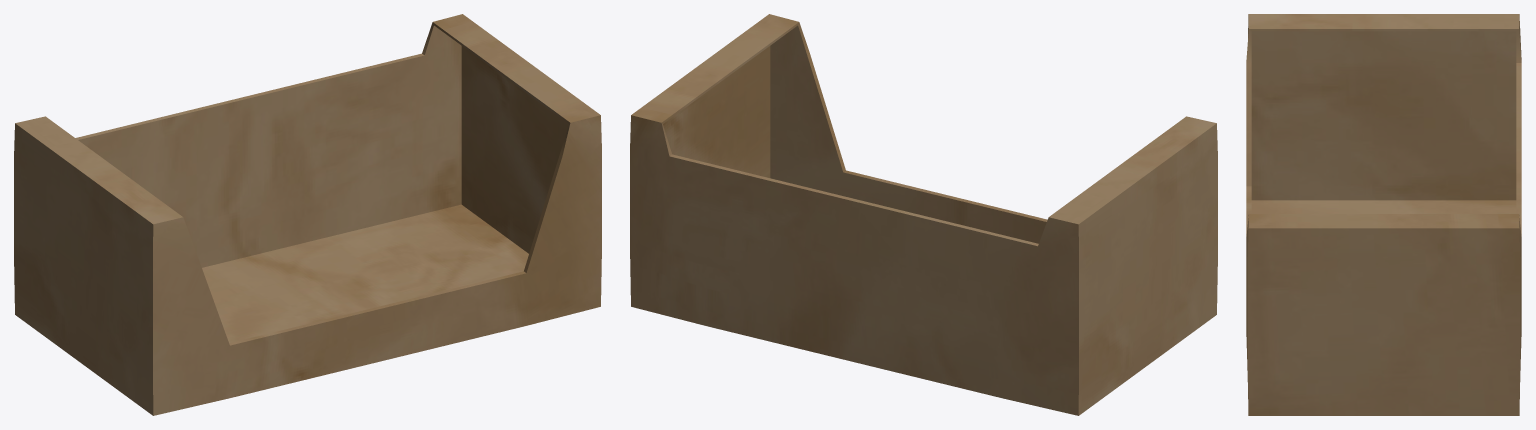
The model's file is box carton.fbx.
The picture shows the model from 3 angles, left to right: view 1: azimuth 30°, elevation 25°; view 2: azimuth 150°, elevation 25°; view 3: azimuth 270°, elevation 25°; orthographic projection. The views are drawn at different scales.
Parts seen in each view (by area): view 1: box_carton; view 2: box_carton; view 3: box_carton.
Part boxes in pixels (box(x1,y1,x2,y2)): box_carton: box(14, 14, 601, 415); box_carton: box(630, 14, 1217, 415); box_carton: box(1246, 14, 1521, 415).
Bounding box in the file's own units: 20.25 × 8.29 × 10.98.
1 material, 1 textured.
